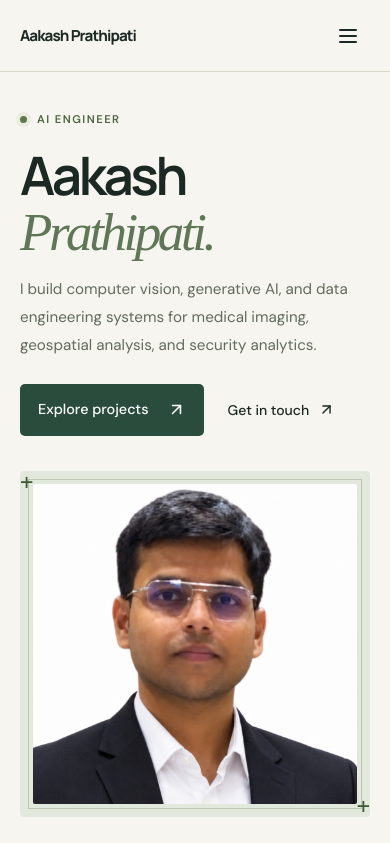
Test case: portfolio navigation and contact › opens mobile navigation, closes after selection, and supports Escape
The width and height of the screenshot is (390, 843).
Click the button named "Open navigation" at (348, 36), box [326,14,370,58]
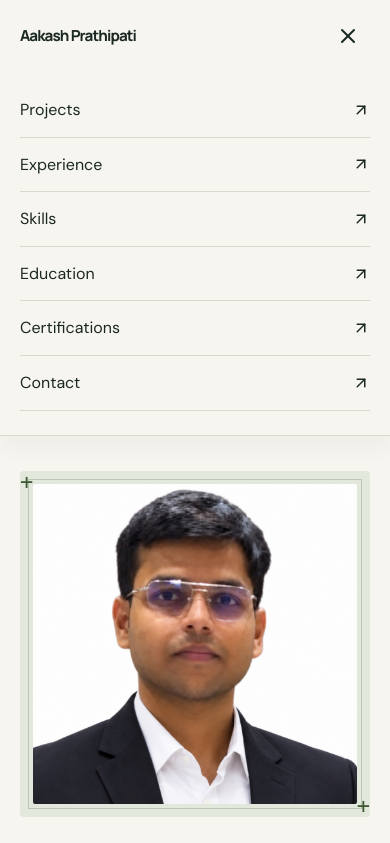
Now the button named "Open navigation" is expanded, box [326,14,370,58]
Click the link to "#projects" at (50, 110), box [20,83,370,138]
(page scrolled)
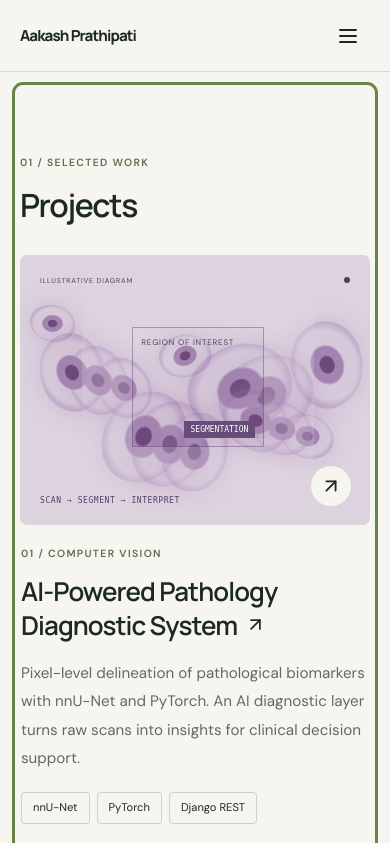
Click the button named "Open navigation" at (348, 36), box [326,14,370,58]
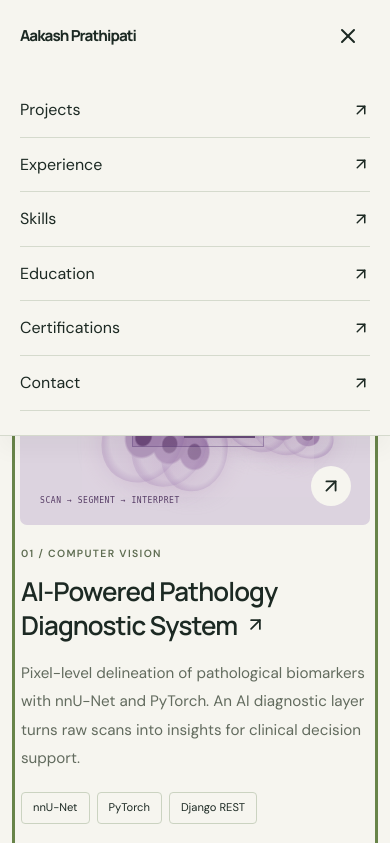
Press Escape
(page scrolled)
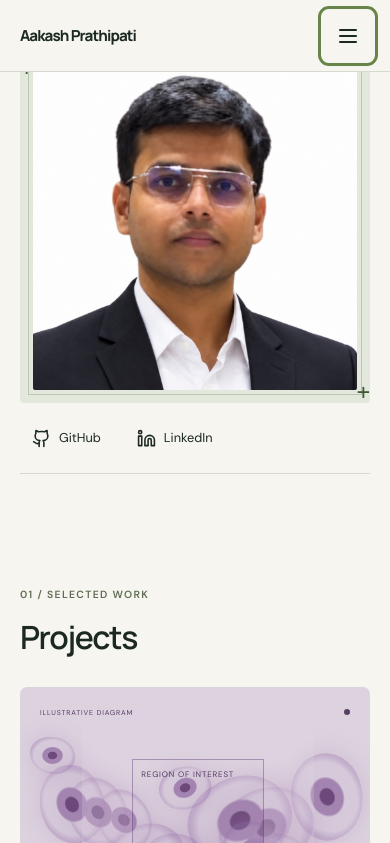
Now the button named "Open navigation" is collapsed, box [326,14,370,58]
